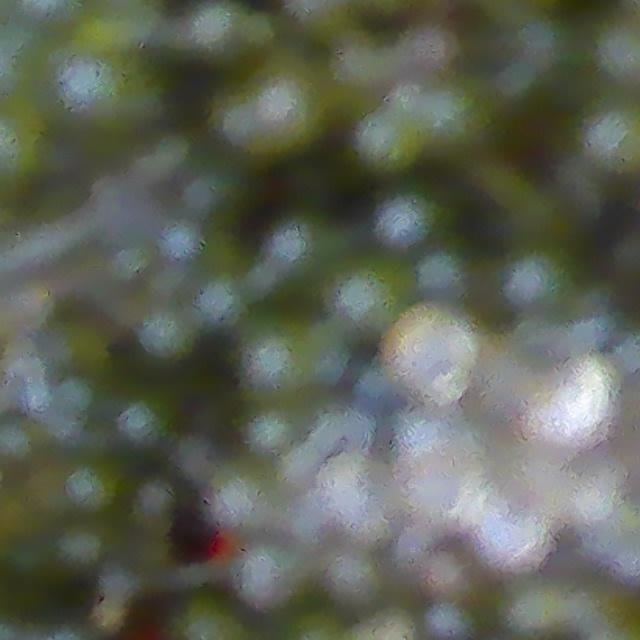SeaGrape: (381, 303, 481, 405), (231, 63, 328, 158), (519, 352, 608, 451), (395, 410, 481, 507), (478, 507, 545, 567), (139, 304, 195, 360), (376, 195, 430, 249), (115, 398, 166, 447), (417, 251, 465, 300)
